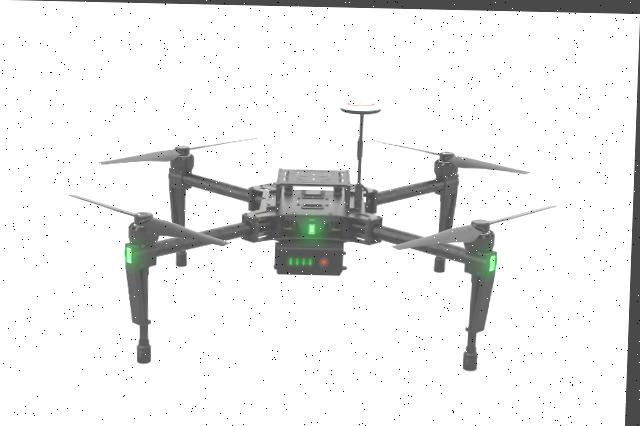drone: (0, 67, 638, 426)
